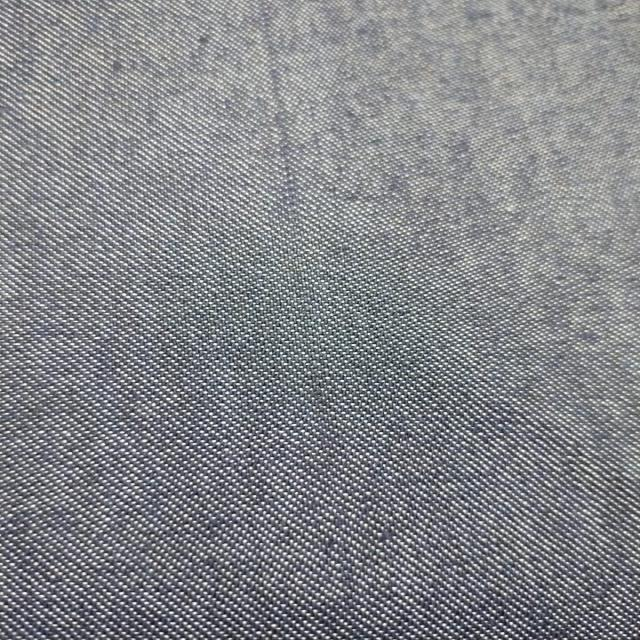Line: (260, 5, 365, 598)
